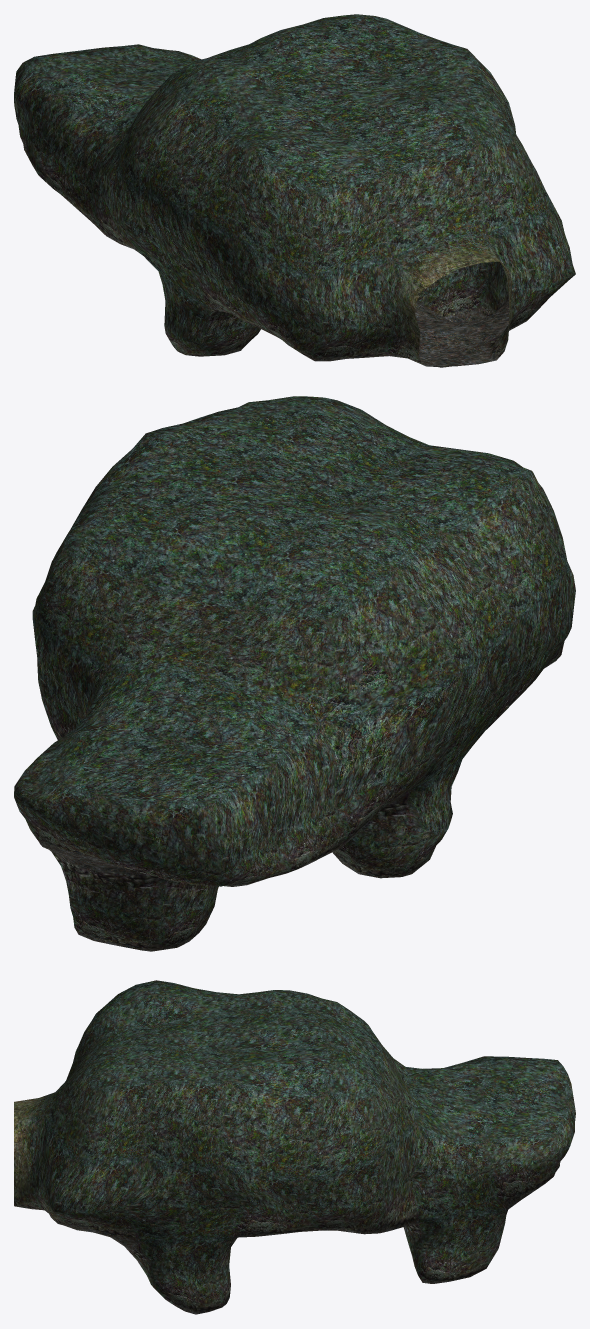
Rendered from thm_all_cave_flatland_s01_damprock_r7_mesh_r7.fbx.
The picture shows the model from 3 angles, top to bottom: view 1: azimuth 30°, elevation 25°; view 2: azimuth 150°, elevation 25°; view 3: azimuth 270°, elevation 25°; orthographic projection. The views are drawn at different scales.
Parts seen in each view (by area): view 1: mesh_node; view 2: mesh_node; view 3: mesh_node.
Part boxes in pixels (x1=…): mesh_node: x1=14, y1=14, x2=575, y2=367; mesh_node: x1=14, y1=396, x2=575, y2=951; mesh_node: x1=14, y1=980, x2=575, y2=1314.
Bounding box in the file's own units: 38.19 × 31.19 × 64.55.
